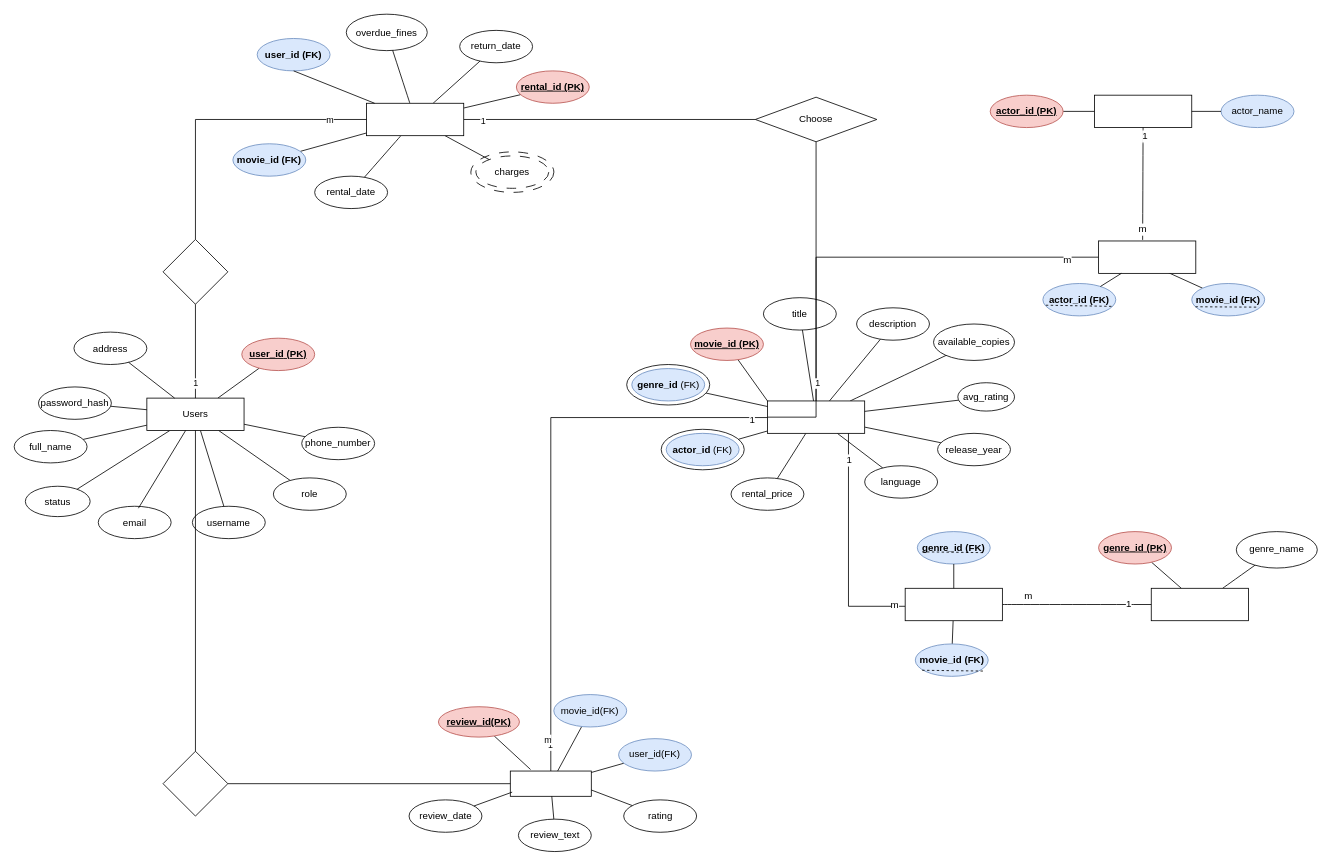
The diagram is 1332 pixels wide and 866 high, and some of its shapes have lost their labels. Each missing label, with the centre of its shape:
Actor: the point at 1143,111
Casting (Movie_Actor): the point at 1147,256
Genre: the point at 1199,604
Movie: the point at 816,416
Movie_Genre: the point at 953,604
Re nt: the point at 195,271
read: the point at 195,783
Rental: the point at 415,119
Review: the point at 550,783
